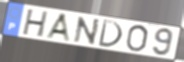9: (152, 27, 175, 57)
A: (45, 12, 73, 44)
D: (97, 19, 125, 50)
H: (20, 9, 50, 39)
N: (73, 16, 102, 46)
O: (124, 25, 150, 53)
